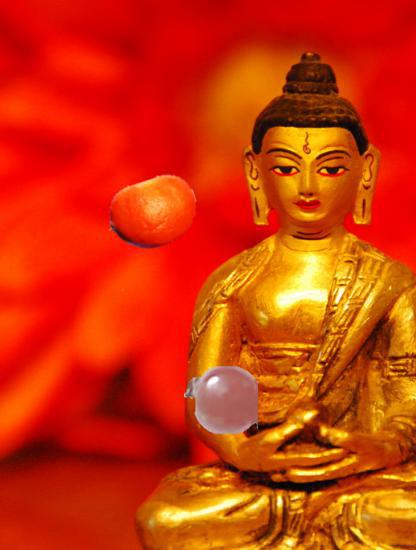Clementine: (106, 168, 199, 261)
Redcurrant: (184, 363, 259, 438)
